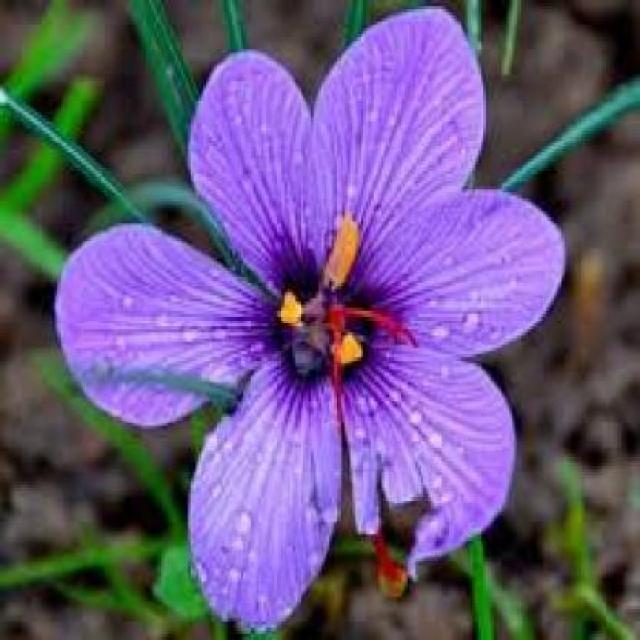saffron open: (55, 8, 564, 627)
